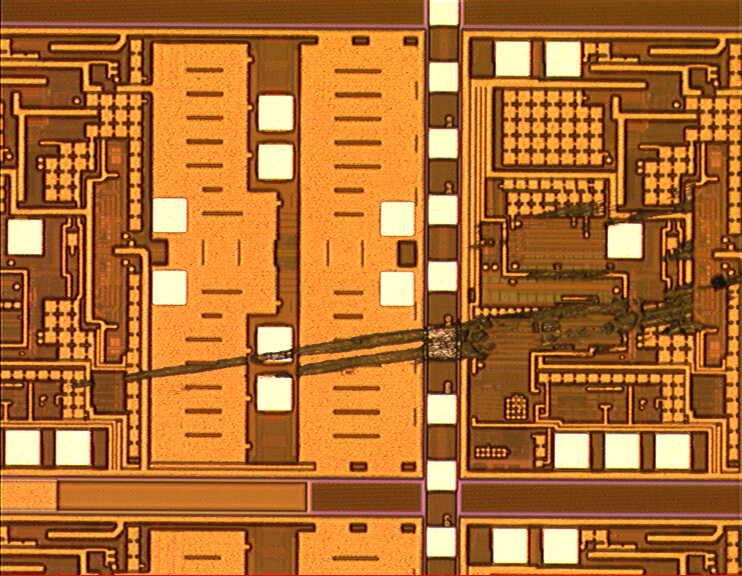SCRATCH: (51, 176, 742, 386)
